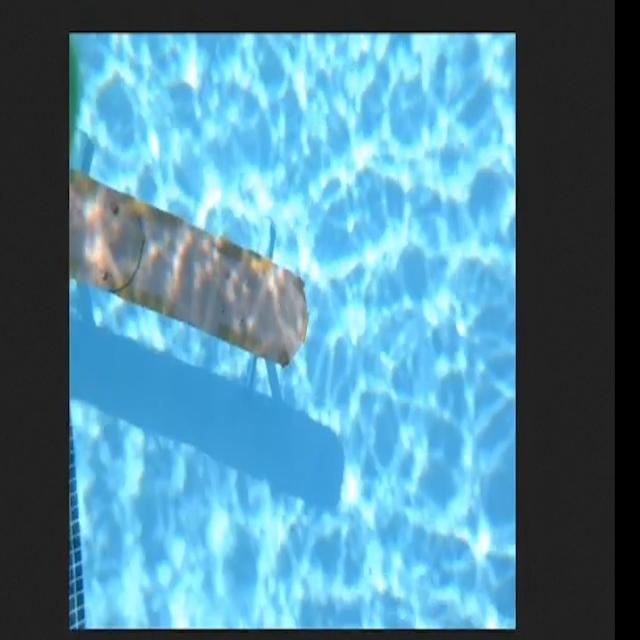Path: (73, 160, 311, 377)
